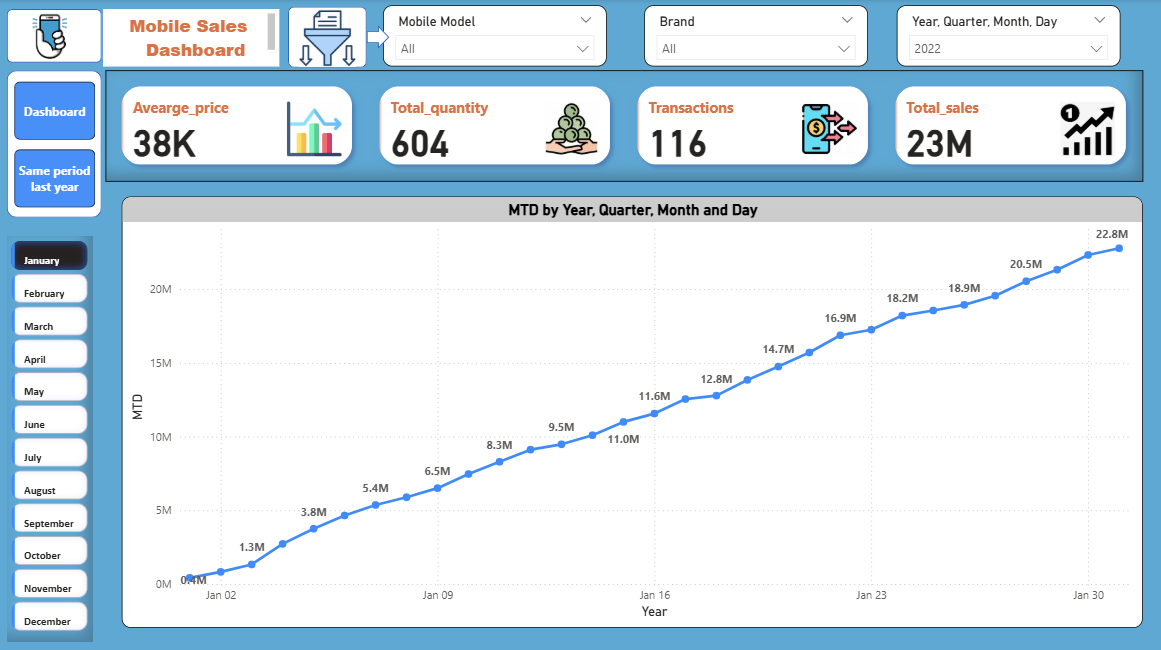

The page's visual inventory and layout, read from the dashboard file:
{"tool":"powerbi","page":{"name":"MTD report","canvas":[1280,720],"ordinal":1},"visuals":[{"type":"shape","box":[9.6,11,104.3,59],"z":0},{"type":"image","box":[0,4.1,113.9,74.1],"z":1000},{"type":"shape","box":[9.6,78.2,104.3,161.9],"z":2000},{"type":"cardVisual","fields":{"Data":["Sales_data.Avearge_price","Sales_data.Total_quantity","Sales_data.Transactions","Sales_data.Total_sales"]},"box":[118,78.2,1138.9,122.1],"z":3000},{"type":"slicer","fields":{"Values":["Sales_data.Mobile Model"]},"box":[422.6,6.9,245.6,67.2],"z":4000},{"type":"slicer","fields":{"Values":["Sales_data.Brand"]},"box":[709.4,6.9,245.6,67.2],"z":5000},{"type":"slicer","fields":{"Values":["Custom_calender.Date.Variation.Date Hierarchy.Year","Custom_calender.Date.Variation.Date Hierarchy.Quarter","Custom_calender.Date.Variation.Date Hierarchy.Month","Custom_calender.Date.Variation.Date Hierarchy.Day"]},"box":[986.6,6.9,245.6,67.2],"z":6000},{"type":"shape","box":[318.4,8.2,86.4,67.2],"z":7000},{"type":"image","box":[325.2,4.1,72.7,76.8],"z":8000},{"type":"shape","box":[404.8,28.8,24.7,26.1],"z":9000},{"type":"textbox","box":[115.3,11,193.5,63.1],"z":10000},{"type":"lineChart","fields":{"Y":["Sales_data.MTD"],"Category":["Custom_calender.Date.Variation.Date Hierarchy.Year","Custom_calender.Date.Variation.Date Hierarchy.Quarter","Custom_calender.Date.Variation.Date Hierarchy.Month","Custom_calender.Date.Variation.Date Hierarchy.Day"]},"box":[135.8,216.8,1121.1,473.4],"z":11000},{"type":"advancedSlicerVisual","fields":{"Values":["Custom_calender.Date.Variation.Date Hierarchy.Month"]},"box":[9.6,260.7,94.7,444.6],"z":12000},{"type":"pageNavigator","box":[17.8,90.6,89.2,138.6],"z":13000}]}

Visuals, with their boxes in screenshot pixels (x1, y1, x2, y2), scaled from the page's 1280x720 canvas onto the 1161x650 screenshot:
shape: 9, 10, 103, 63
image: 0, 4, 103, 71
shape: 9, 71, 103, 217
cardVisual - Sales_data.Avearge_price x Sales_data.Total_quantity: 107, 71, 1140, 181
slicer - Sales_data.Mobile Model: 383, 6, 606, 67
slicer - Sales_data.Brand: 643, 6, 866, 67
slicer - Custom_calender.Date.Variation.Date Hierarchy.Year x Custom_calender.Date.Variation.Date Hierarchy.Quarter: 895, 6, 1118, 67
shape: 289, 7, 367, 68
image: 295, 4, 361, 73
shape: 367, 26, 390, 50
textbox: 105, 10, 280, 67
lineChart - Sales_data.MTD x Custom_calender.Date.Variation.Date Hierarchy.Year: 123, 196, 1140, 623
advancedSlicerVisual - Custom_calender.Date.Variation.Date Hierarchy.Month: 9, 235, 95, 637
pageNavigator: 16, 82, 97, 207
